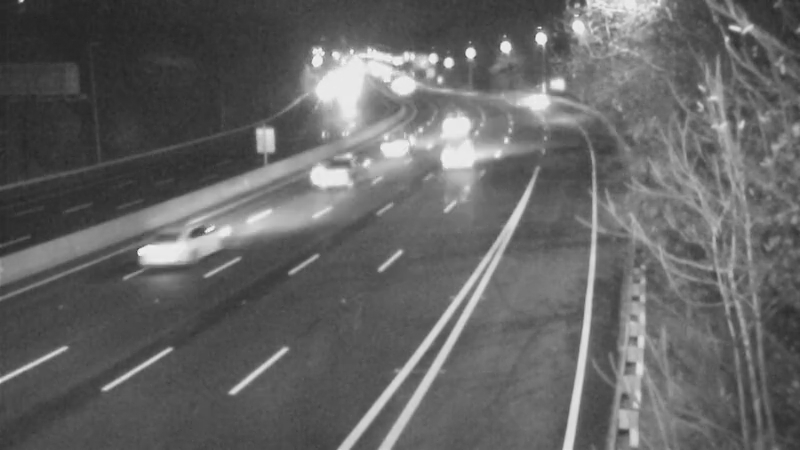vehicle: (418, 117, 498, 197), (299, 129, 379, 209), (122, 215, 202, 295), (514, 76, 564, 126), (429, 97, 479, 147), (372, 118, 422, 168)
